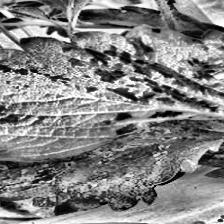Angular Leafspot: (0, 24, 224, 162), (0, 118, 224, 212)
